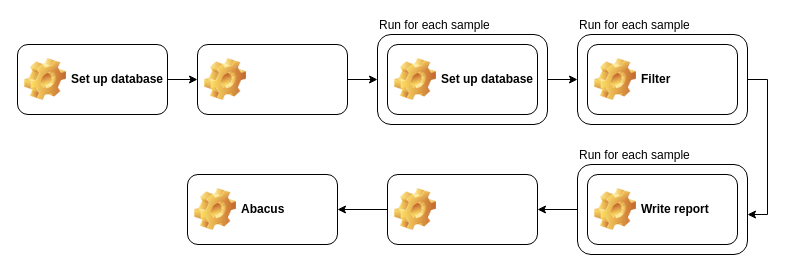
Image size: 793x272. Some labels were removed from this diagram. Each missing label, with the centre of its shape:
"iProphet" goes at pixel 462 209.
"ProteinProphet" goes at pixel 272 79.
